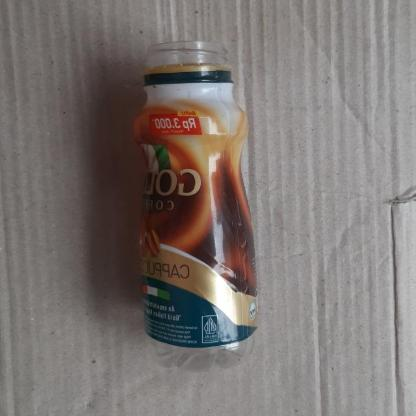Plastic Bottle: (131, 39, 259, 375)
